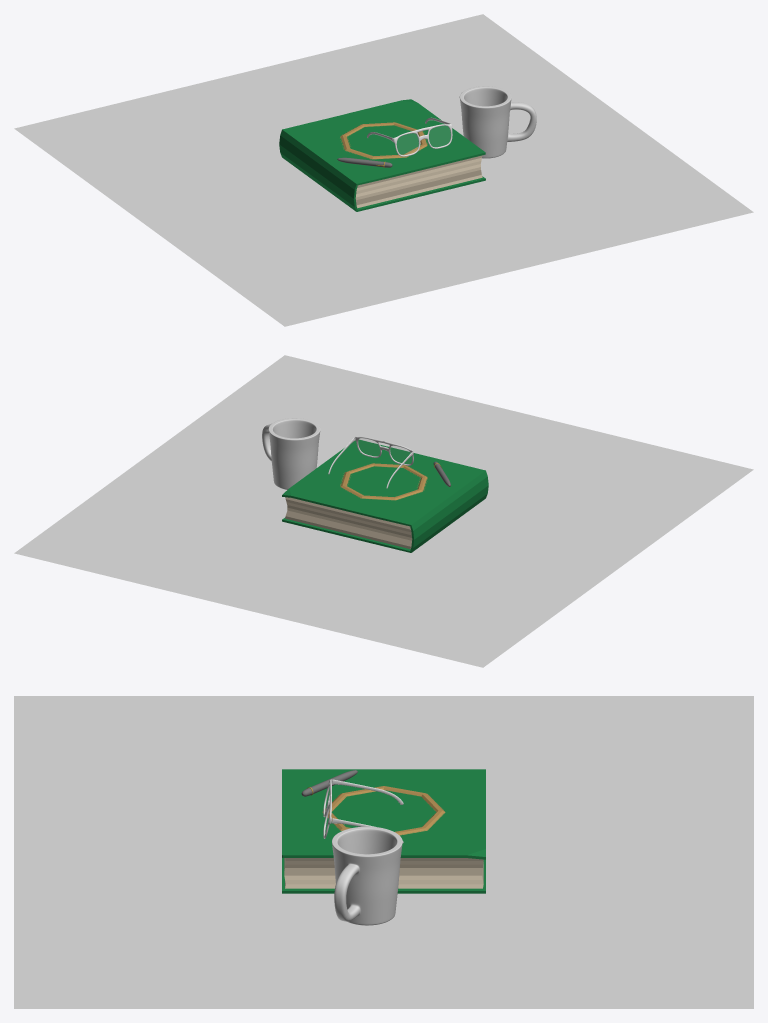
The model's file is book_.glb.
The picture shows the model from 3 angles, top to bottom: view 1: azimuth 30°, elevation 25°; view 2: azimuth 150°, elevation 25°; view 3: azimuth 270°, elevation 25°; orthographic projection. The views are drawn at different scales.
Visible parts, largest first — view 1: Object_8, Object_5, Object_4, Object_3; view 2: Object_8, Object_5, Object_4, Object_3; view 3: Object_8, Object_5, Object_4, Object_3.
Part boxes in pixels (<box>): Object_8: <box>14,14,753,326</box>; Object_5: <box>279,99,485,211</box>; Object_4: <box>355,155,482,208</box>; Object_3: <box>367,117,452,156</box>; Object_8: <box>14,355,753,667</box>; Object_5: <box>282,439,488,552</box>; Object_4: <box>285,497,412,549</box>; Object_3: <box>328,436,413,488</box>; Object_8: <box>14,696,753,1008</box>; Object_5: <box>282,769,485,893</box>; Object_4: <box>284,858,483,888</box>; Object_3: <box>323,779,403,843</box>.
Size of the model in its own units: 7.48 by 0.8341 by 7.48.
Materials: 7 (4 with a texture image).
